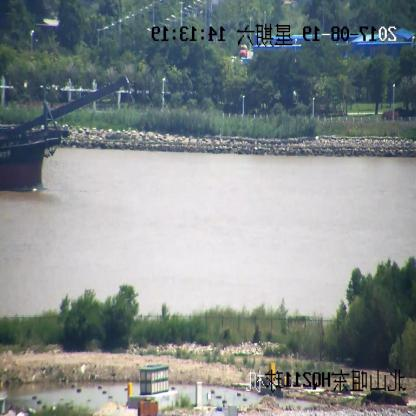Bulk Carrier: (0, 76, 128, 192)
